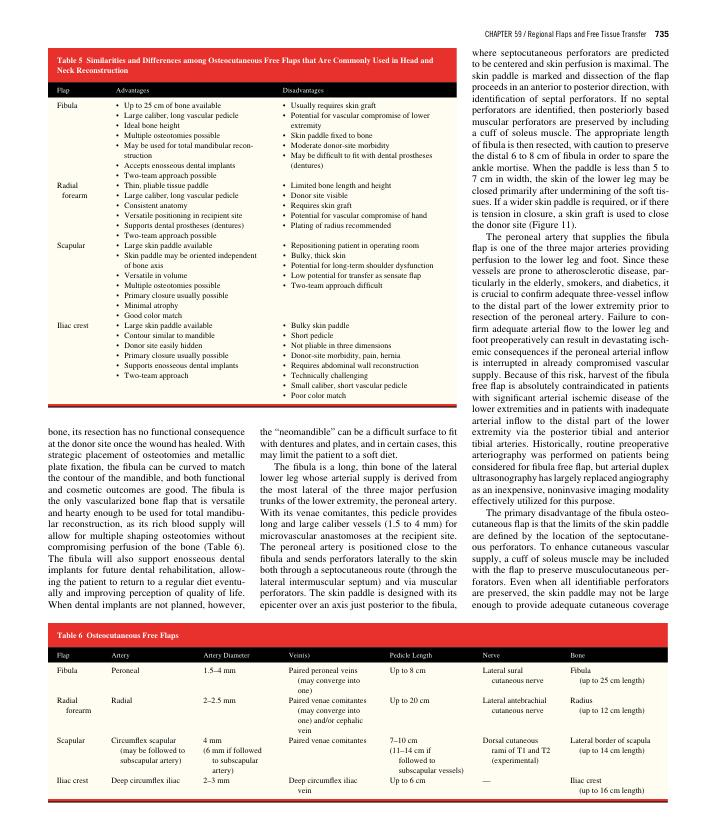caption: (56, 56, 433, 74), (56, 631, 179, 640)
header: (484, 29, 647, 40)
table: (48, 82, 456, 405), (48, 647, 668, 799)
text: (471, 47, 670, 612), (258, 426, 459, 612), (46, 426, 247, 612)
